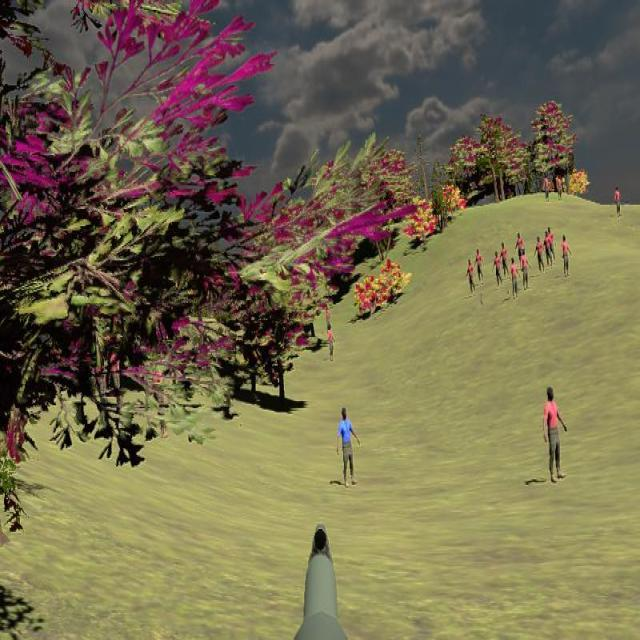Human: (544, 387, 567, 483), (336, 407, 361, 486), (336, 407, 360, 488)
